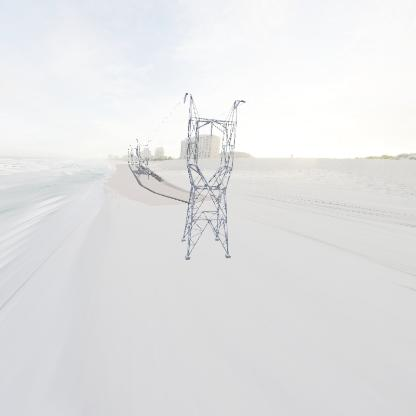tower: (180, 91, 247, 262)
